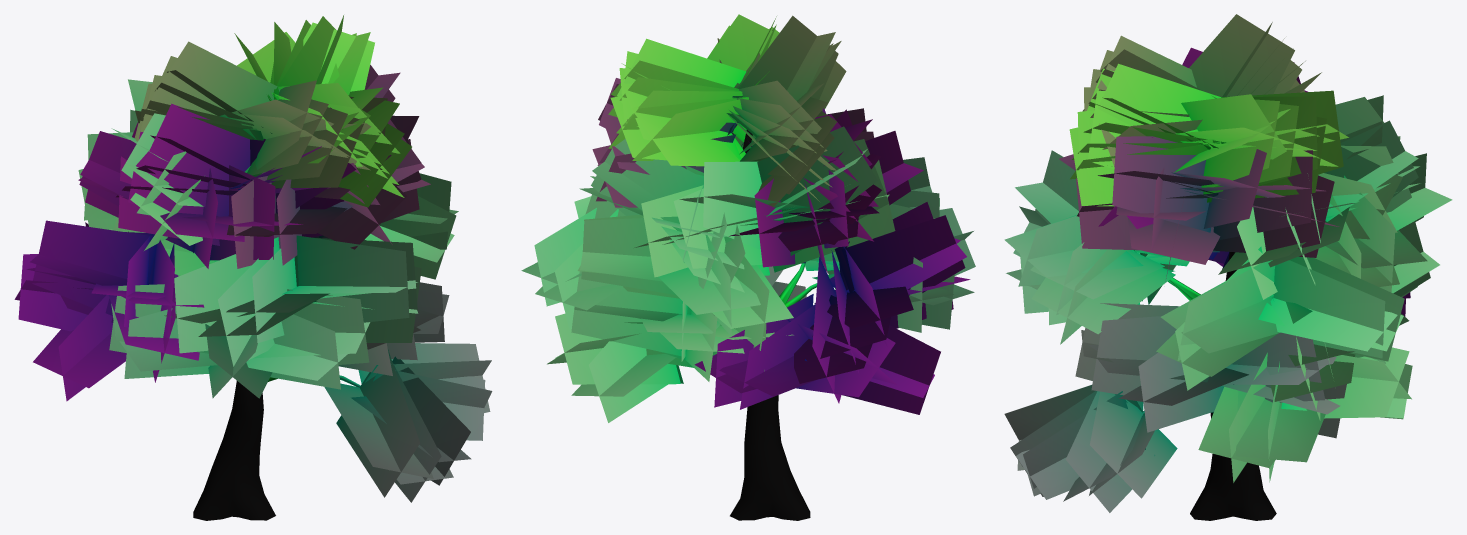
The model's file is Tree_4_1.fbx.
3 views of the same model, side by side, from view 1: azimuth 30°, elevation 25°; view 2: azimuth 150°, elevation 25°; view 3: azimuth 270°, elevation 25° (orthographic). The views are drawn at different scales.
Visible parts, largest first — view 1: _1; view 2: _1; view 3: _1.
Part boxes in pixels (box(x1,y1,x2,y2)): _1: box(14, 15, 492, 520); _1: box(521, 14, 975, 520); _1: box(1004, 14, 1452, 520).
Bounding box in the file's own units: 1689 × 1889 × 1621.
